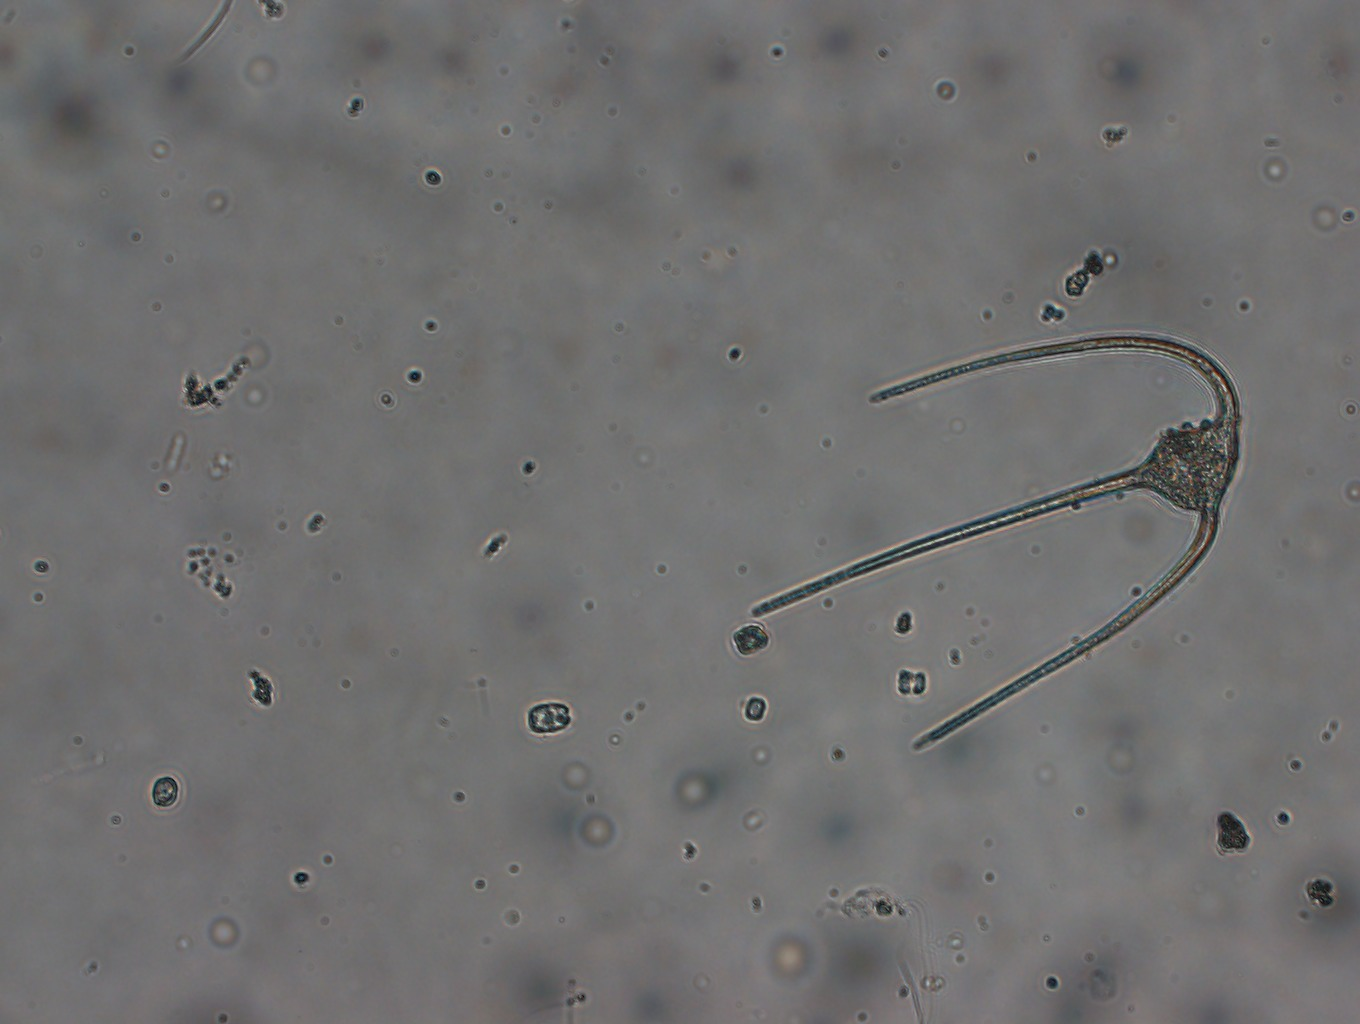ceratium trichoceros: (751, 332, 1243, 755)
